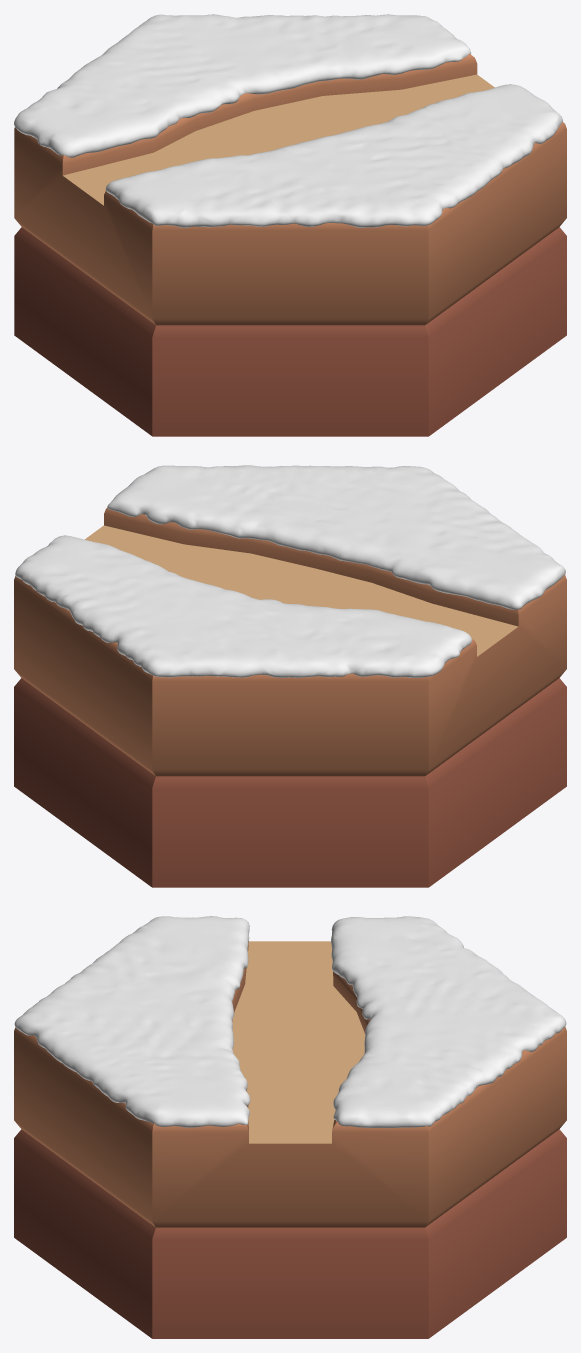
Rendered from hex_rock_roadB_detail.fbx.
The picture shows the model from 3 angles, top to bottom: view 1: azimuth 30°, elevation 25°; view 2: azimuth 150°, elevation 25°; view 3: azimuth 270°, elevation 25°; orthographic projection.
Parts seen in each view (by area): view 1: SnowBall.001, hex_rock_roadB_detail.002, hex_rock_roadB_detail.001, hex_rock_roadB_detail; view 2: SnowBall.001, hex_rock_roadB_detail.002, hex_rock_roadB_detail.001, hex_rock_roadB_detail; view 3: SnowBall.001, hex_rock_roadB_detail.002, hex_rock_roadB_detail.001, hex_rock_roadB_detail.
Part boxes in pixels (x1,y1,x2,y2): SnowBall.001: (14, 14, 562, 227); hex_rock_roadB_detail.002: (14, 227, 566, 436); hex_rock_roadB_detail.001: (14, 53, 566, 325); hex_rock_roadB_detail: (63, 74, 494, 205); SnowBall.001: (15, 465, 565, 677); hex_rock_roadB_detail.002: (14, 678, 566, 887); hex_rock_roadB_detail.001: (14, 508, 566, 776); hex_rock_roadB_detail: (85, 525, 518, 656); SnowBall.001: (14, 916, 566, 1128); hex_rock_roadB_detail.002: (14, 1129, 566, 1338); hex_rock_roadB_detail.001: (14, 933, 566, 1227); hex_rock_roadB_detail: (232, 941, 365, 1143).
Bounding box in the file's own units: 202 × 103 × 231.
